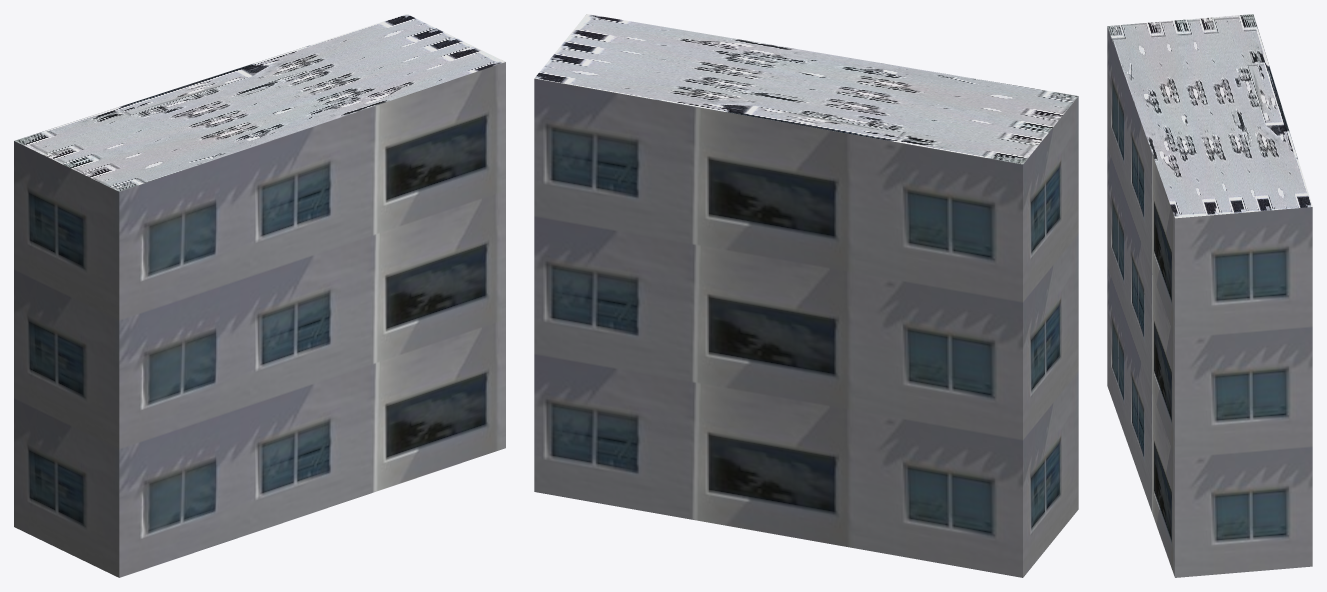
Rendered from ResTex__4640.fbx.
3 renders of one model, left to right at view 1: azimuth 30°, elevation 25°; view 2: azimuth 150°, elevation 25°; view 3: azimuth 270°, elevation 25°, orthographic. The views are drawn at different scales.
Parts seen in each view (by area): view 1: CityEngineMaterial_10_m, CityEngineMaterial_8_m; view 2: CityEngineMaterial_10_m, CityEngineMaterial_8_m; view 3: CityEngineMaterial_10_m, CityEngineMaterial_8_m.
Boxes of the visible parts, left/top/right/bottom form: CityEngineMaterial_10_m: left=14, top=62, right=505, bottom=577; CityEngineMaterial_8_m: left=14, top=14, right=505, bottom=191; CityEngineMaterial_10_m: left=534, top=78, right=1078, bottom=577; CityEngineMaterial_8_m: left=534, top=14, right=1078, bottom=164; CityEngineMaterial_10_m: left=1107, top=27, right=1312, bottom=577; CityEngineMaterial_8_m: left=1107, top=14, right=1312, bottom=218.
Size of the model in its own units: 10.97 by 9 by 4.66.
2 materials, 2 textured.
